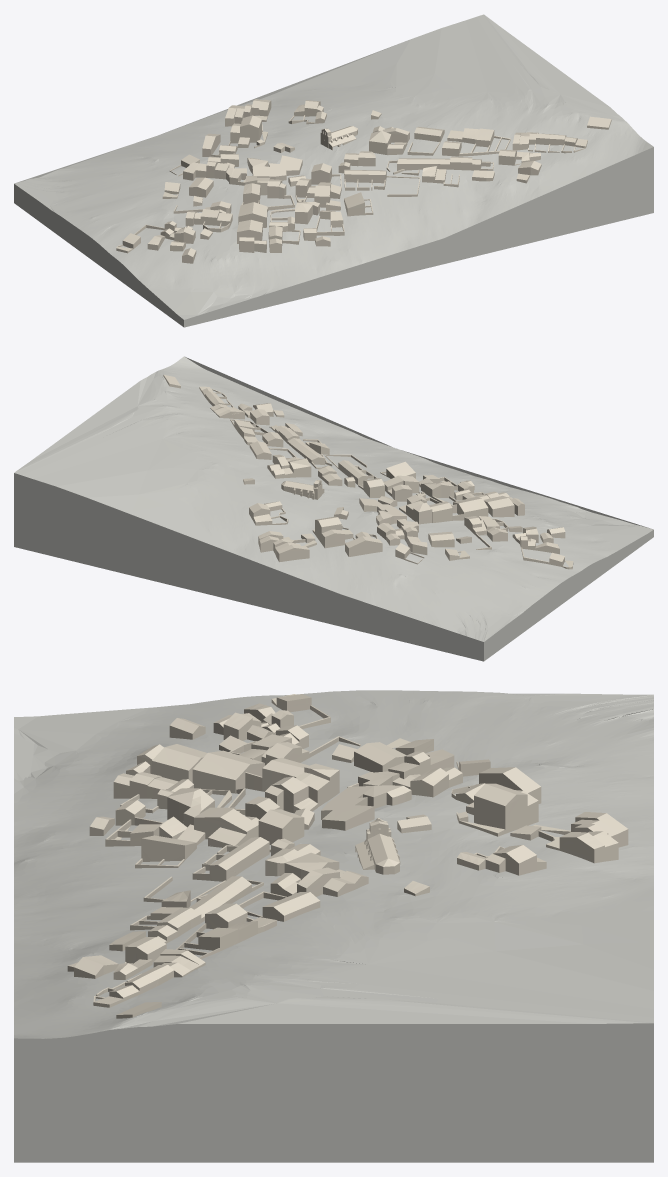
The model's file is sarnago_1960_morfologia.glb.
3 renders of one model, top to bottom at view 1: azimuth 30°, elevation 25°; view 2: azimuth 150°, elevation 25°; view 3: azimuth 270°, elevation 25°, orthographic. The views are drawn at different scales.
Parts seen in each view (by area): view 1: terreno, edificios_1960; view 2: terreno, edificios_1960; view 3: terreno, edificios_1960.
Part boxes in pixels (x1=…): terreno: x1=14, y1=14, x2=653, y2=327; edificios_1960: x1=116, y1=99, x2=611, y2=263; terreno: x1=14, y1=356, x2=653, y2=661; edificios_1960: x1=163, y1=374, x2=573, y2=569; terreno: x1=14, y1=690, x2=653, y2=1162; edificios_1960: x1=67, y1=694, x2=628, y2=1018.
Size of the model in its own units: 317 by 47.8 by 199.
